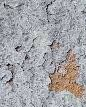Corrosion: (47, 48, 85, 100)
